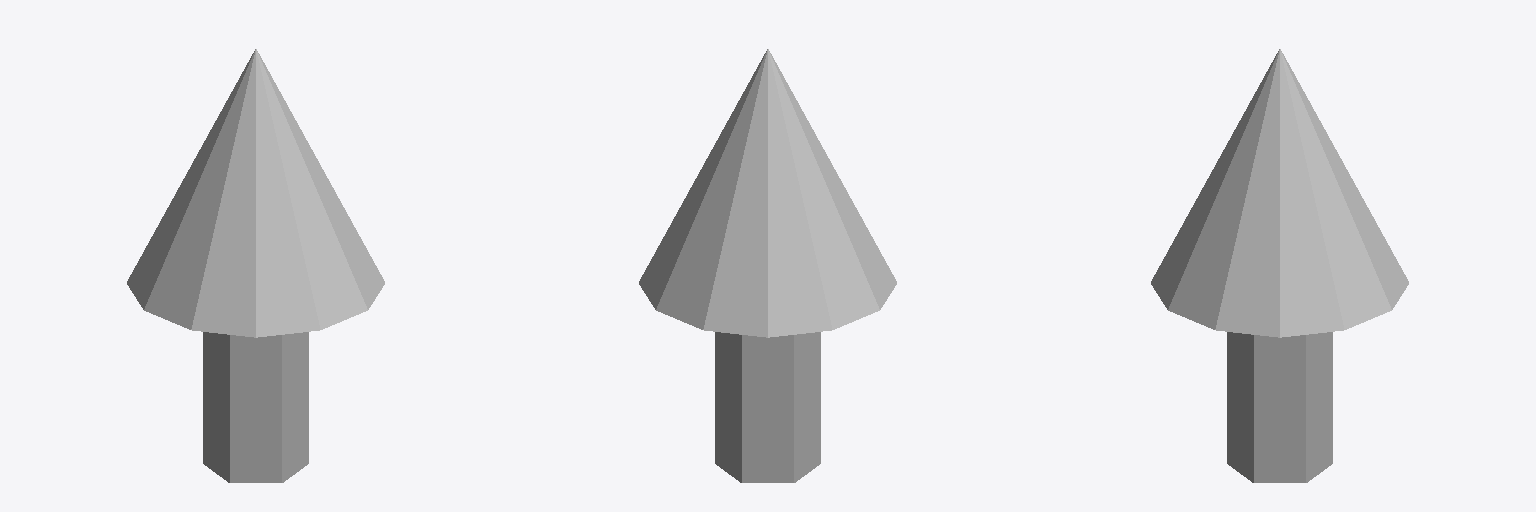
The model's file is arrow.obj.
The picture shows the model from 3 angles: view 1: azimuth 30°, elevation 25°; view 2: azimuth 150°, elevation 25°; view 3: azimuth 270°, elevation 25°; orthographic projection.
Visible parts, largest first — view 1: Circle; view 2: Circle; view 3: Circle.
Boxes of the visible parts, x1,y1,x2,y2 form: Circle: [127, 49, 384, 482]; Circle: [639, 49, 896, 482]; Circle: [1151, 49, 1408, 482].
Size of the model in its own units: 4.9 by 8.68 by 4.9.